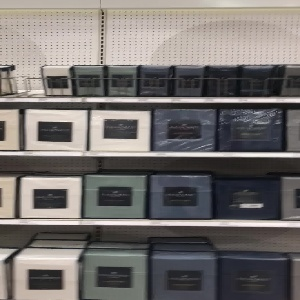void: (9, 9, 44, 94)
